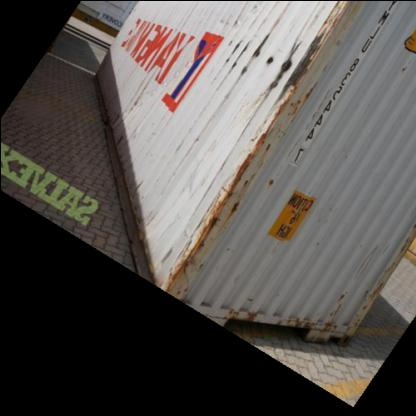Damage: (154, 144, 279, 285), (212, 27, 328, 119), (107, 56, 161, 118), (316, 286, 358, 340)
